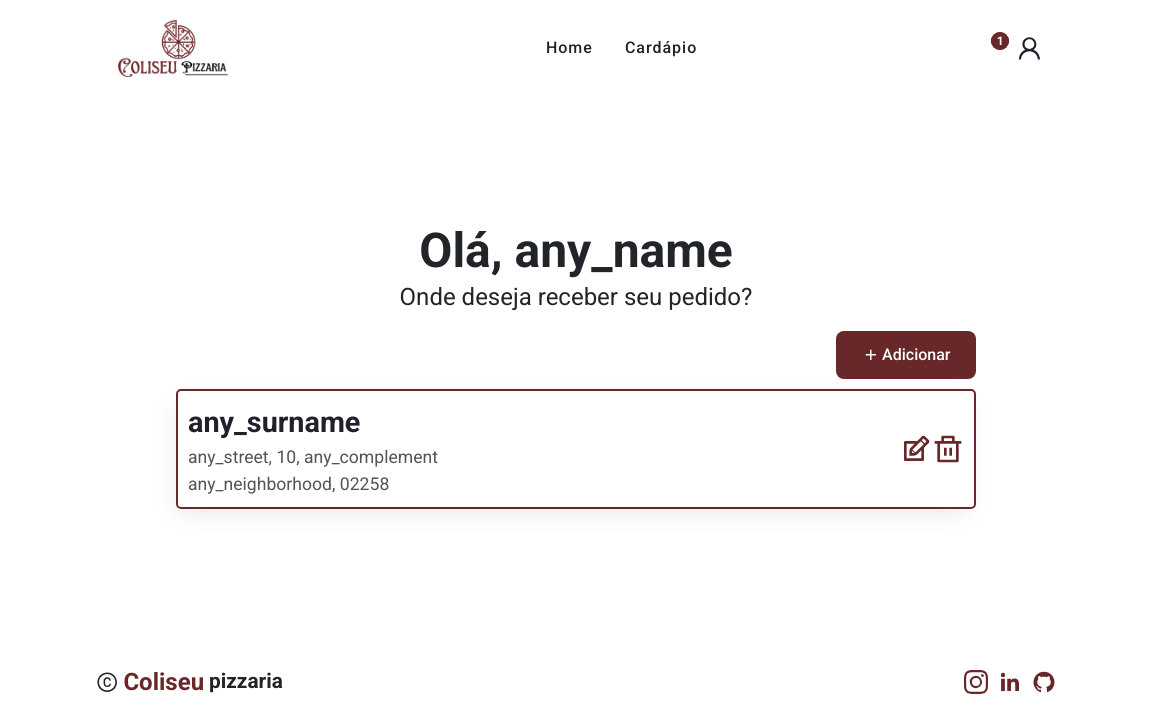
Scenario: Profile › edit › should load edit modal with correct initial state
What coordinates should you click on to do the following:
click the icon with test id "icon-edit"
I would click on:
 (916, 449)
Its box is [900,433,932,465].
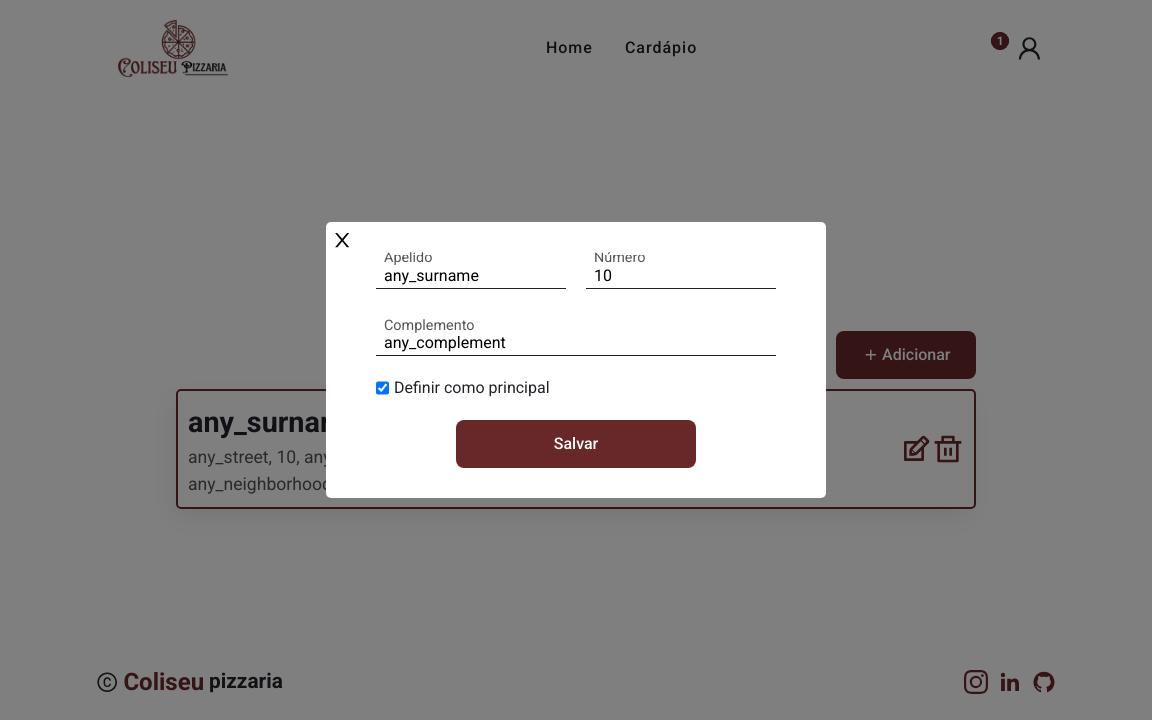
Now the dialog with class "react-modal" is shown, box [326,222,826,498]
